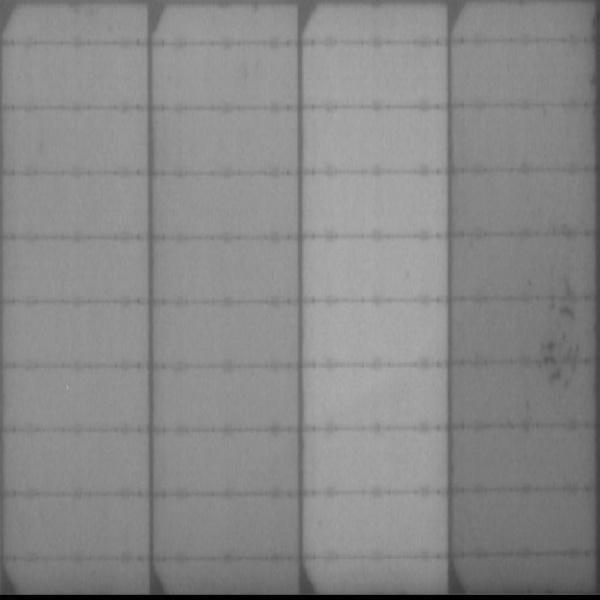scratch: (533, 280, 578, 390)
